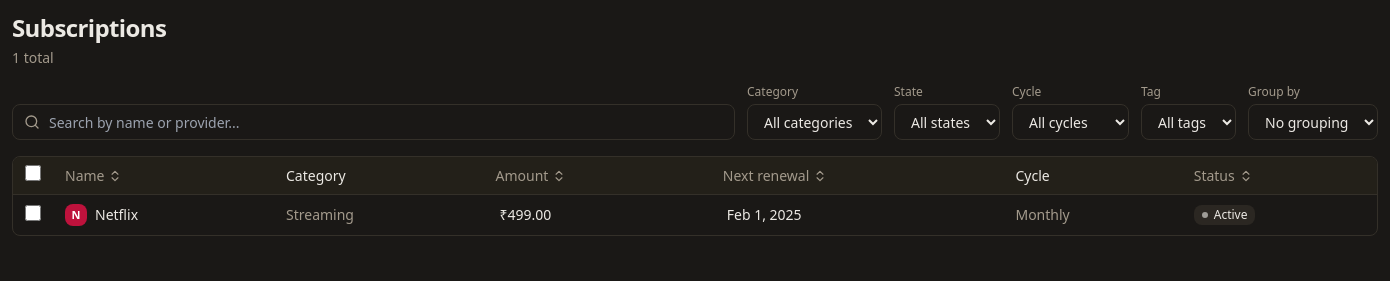
quick-edit validation (Story 3.5, Req 9.7) › keeps the editor open with an announced alert on an invalid amount, persisting nothing
The width and height of the screenshot is (1390, 281).
Expected: the table is shown, [13, 157, 1377, 235]
Click the button named "Edit amount for Netflix": {"x": 533, "y": 215} [496, 203, 571, 227]
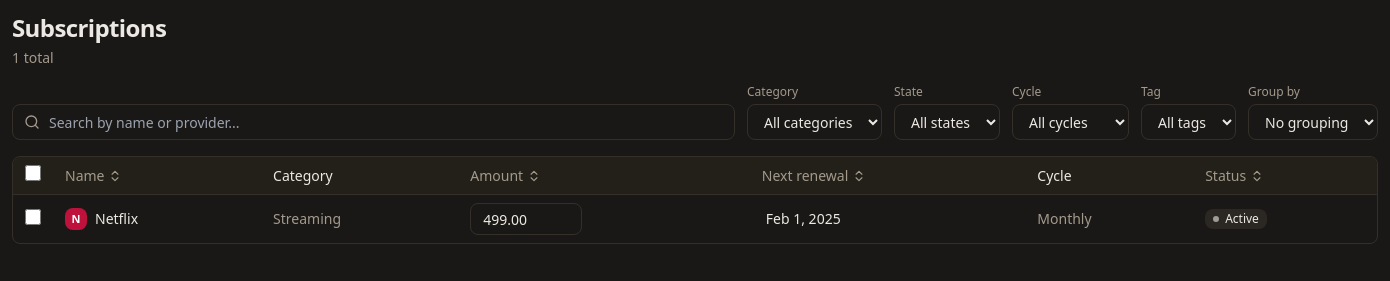
Replace the text in the number field named "Edit amount for Netflix" with "abc": {"x": 526, "y": 219} [470, 203, 582, 235]
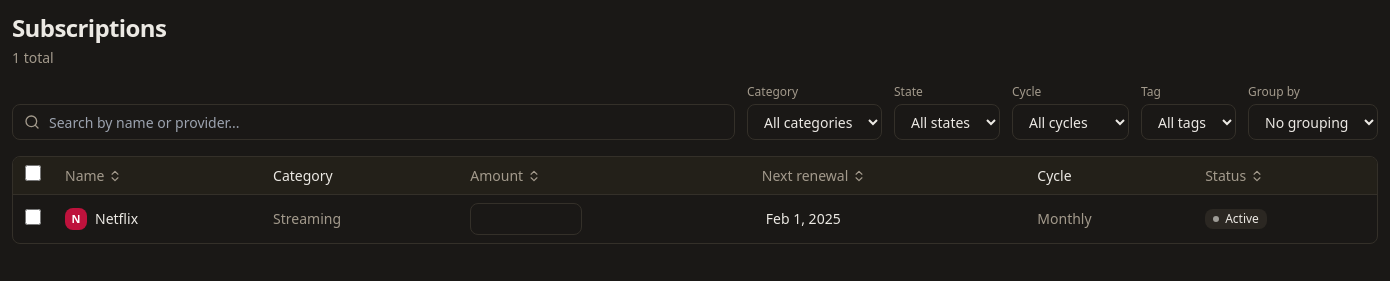
Press Enter in the number field named "Edit amount for Netflix", box [470, 203, 582, 235]
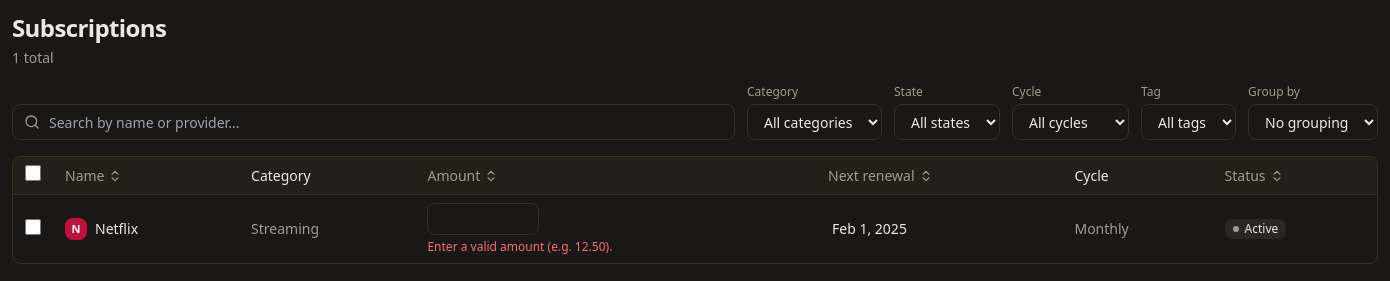
Result: the number field named "Edit amount for Netflix" is shown at [427, 203, 539, 235]
Result: the message shows "valid amount" at [427, 238, 612, 255]
